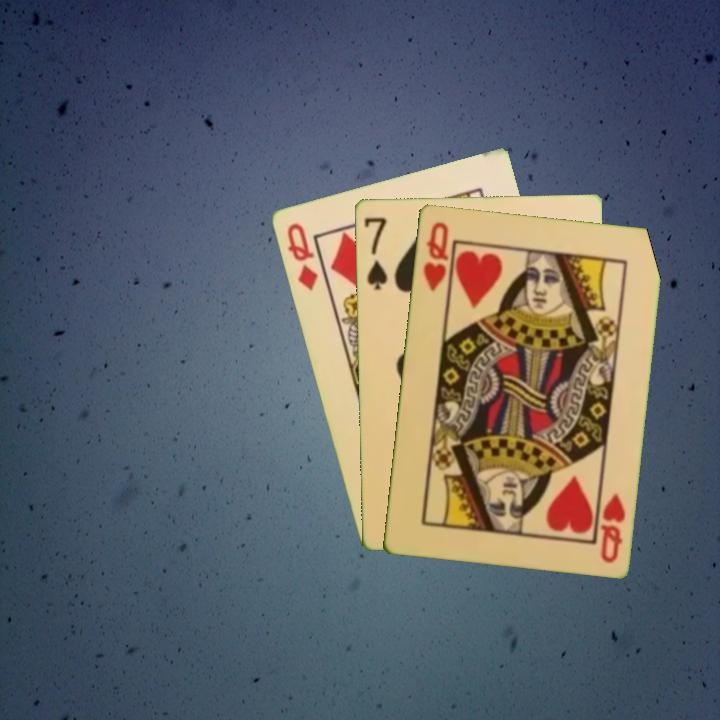7s: (360, 213, 390, 292)
Qd: (283, 219, 320, 294)
Qh: (419, 218, 451, 294), (597, 489, 628, 566)
